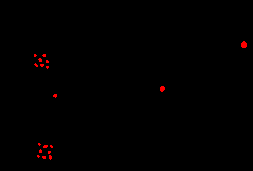Target: (241, 41, 247, 48), (160, 86, 165, 92), (38, 58, 42, 62), (34, 63, 38, 67), (53, 94, 57, 98), (43, 145, 48, 148), (49, 155, 52, 160), (42, 54, 46, 57), (40, 64, 44, 67), (39, 149, 42, 153), (42, 156, 46, 159), (34, 54, 37, 57), (46, 60, 49, 63), (46, 66, 49, 69), (38, 143, 41, 146), (50, 145, 53, 148), (48, 151, 51, 154), (37, 155, 40, 158)
